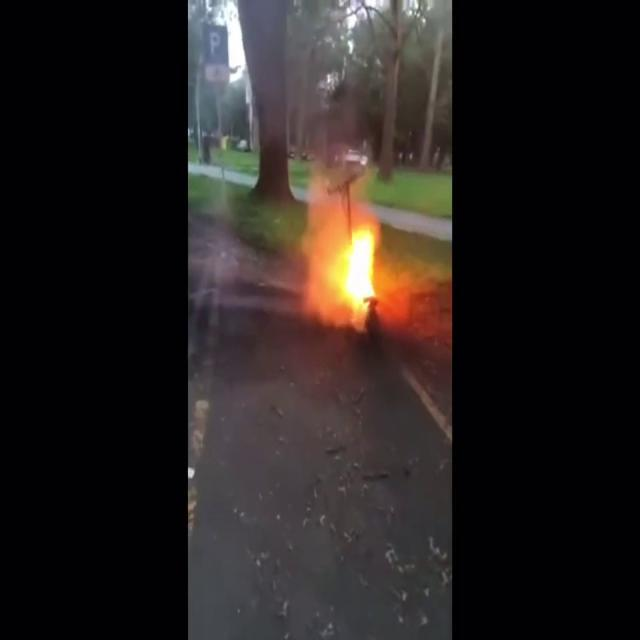Fire: (336, 216, 380, 310)
Smoke: (210, 0, 344, 158)
